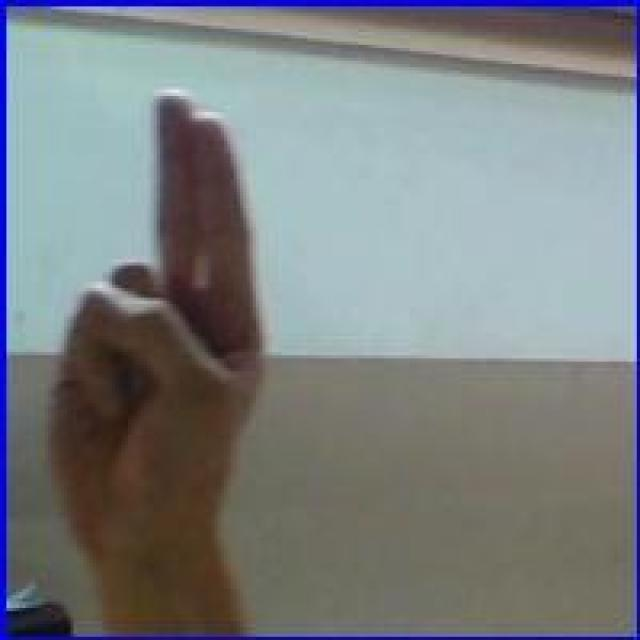U: (37, 67, 277, 589)
